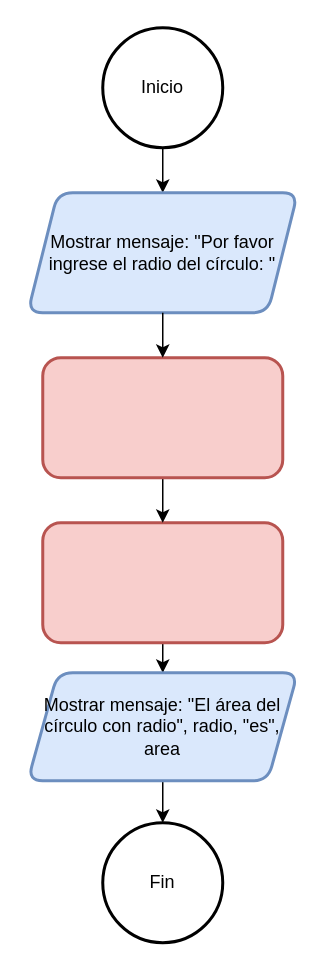
This 324x969 diagram has some shape labels left out. The centre of each missing label's shape, as x and y in pixels:
Asignar el valor a una variable radio de tipo flotante: point 162,417
Definir y asignar a la variable area el resultado de pi x radio^2: point 162,582
